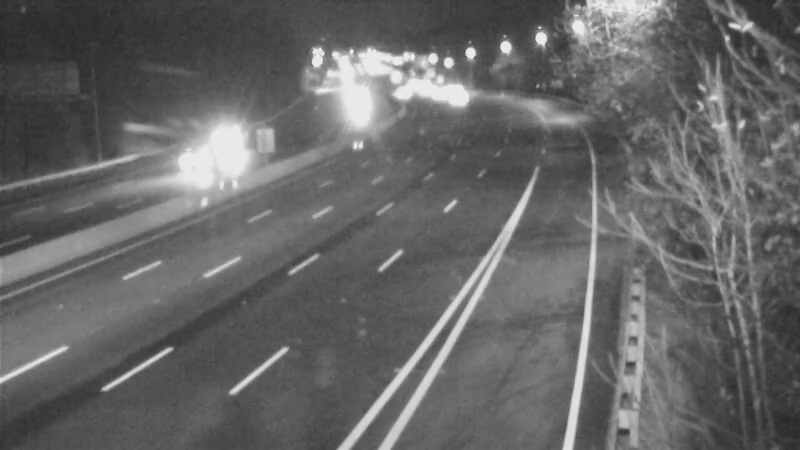vehicle: (155, 125, 235, 205), (427, 71, 477, 121), (201, 116, 251, 166), (332, 78, 382, 128)
